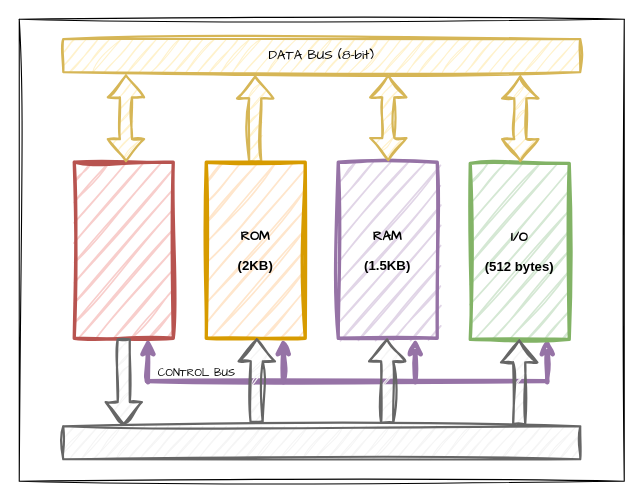
The diagram is 644 pixels wide and 501 high, and some of its shapes have lost their labels. Each missing label, with the centre of its shape:
"ADDRESS BUS (12-bit)" goes at point (321, 442).
"CPU (MCU)" goes at point (123, 249).
